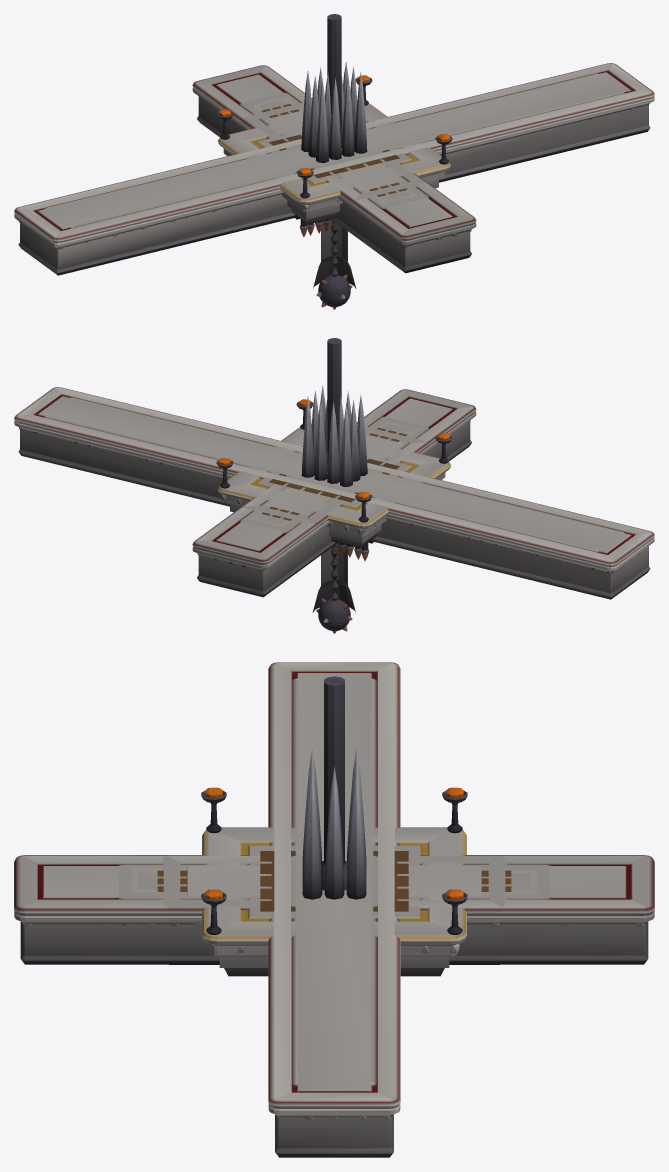
File: fortress-1-BKASYm4q.glb
3 views of the same model, one above another, from view 1: azimuth 30°, elevation 25°; view 2: azimuth 150°, elevation 25°; view 3: azimuth 270°, elevation 25° (orthographic). The views are drawn at different scales.
Parts seen in each view (by area): view 1: block_47.29999999999927x2x6#1, block_6x2x29#0, pad_12x2x12#0, spikes_4x6x3#0, block_6x2x16#0, block_44x2x4_grate#0, block_4x20x20_ruin#1, support_0_round#0, blade_3x12x1#0, press_6x6x2#0, press_5x6x2#0, hover_7x1.5x7#0; view 2: block_47.29999999999927x2x6#1, block_6x2x29#0, pad_12x2x12#0, spikes_4x6x3#0, block_6x2x16#0, block_44x2x4_grate#0, block_4x20x20_ruin#1, support_0_round#0, blade_3x12x1#0, press_6x6x2#0, press_5x6x2#0, hover_7x1.5x7#0; view 3: block_47.29999999999927x2x6#1, block_6x2x29#0, pad_12x2x12#0, block_6x2x16#0, spikes_4x6x3#0, block_44x2x4_grate#0, block_4x20x20_ruin#1, press_5x6x2#0, hover_7x1.5x7#0, press_6x6x2#0.
Part boxes in pixels (left/top/right/bottom): block_47.29999999999927x2x6#1: left=14, top=63, right=654, bottom=275; block_6x2x29#0: left=192, top=65, right=476, bottom=273; pad_12x2x12#0: left=216, top=75, right=452, bottom=224; spikes_4x6x3#0: left=301, top=61, right=367, bottom=162; block_6x2x16#0: left=241, top=101, right=426, bottom=237; block_44x2x4_grate#0: left=44, top=73, right=625, bottom=228; block_4x20x20_ruin#1: left=239, top=92, right=429, bottom=209; support_0_round#0: left=313, top=221, right=356, bottom=288; blade_3x12x1#0: left=316, top=139, right=352, bottom=309; press_6x6x2#0: left=295, top=14, right=342, bottom=237; press_5x6x2#0: left=307, top=14, right=342, bottom=235; hover_7x1.5x7#0: left=269, top=134, right=399, bottom=178; block_47.29999999999927x2x6#1: left=14, top=387, right=654, bottom=599; block_6x2x29#0: left=192, top=389, right=476, bottom=597; pad_12x2x12#0: left=216, top=399, right=452, bottom=548; spikes_4x6x3#0: left=301, top=385, right=367, bottom=486; block_6x2x16#0: left=242, top=425, right=427, bottom=561; block_44x2x4_grate#0: left=43, top=397, right=624, bottom=552; block_4x20x20_ruin#1: left=239, top=416, right=429, bottom=533; support_0_round#0: left=312, top=545, right=355, bottom=612; blade_3x12x1#0: left=316, top=463, right=352, bottom=633; press_6x6x2#0: left=326, top=338, right=373, bottom=561; press_5x6x2#0: left=326, top=338, right=361, bottom=559; hover_7x1.5x7#0: left=269, top=458, right=399, bottom=502; block_47.29999999999927x2x6#1: left=268, top=662, right=400, bottom=1157; block_6x2x29#0: left=14, top=855, right=654, bottom=964; pad_12x2x12#0: left=201, top=787, right=467, bottom=976; block_6x2x16#0: left=160, top=855, right=508, bottom=964; spikes_4x6x3#0: left=302, top=748, right=366, bottom=899; block_44x2x4_grate#0: left=292, top=678, right=376, bottom=1086; block_4x20x20_ruin#1: left=116, top=864, right=552, bottom=899; press_5x6x2#0: left=324, top=676, right=344, bottom=864; hover_7x1.5x7#0: left=260, top=851, right=408, bottom=911; press_6x6x2#0: left=324, top=676, right=344, bottom=841.
Bounding box in the file's own units: 47.3 × 21.98 × 29.
